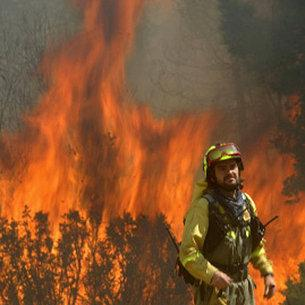fire: (16, 148, 201, 216), (66, 61, 123, 140), (259, 177, 305, 267)
smoke: (142, 15, 226, 99)
